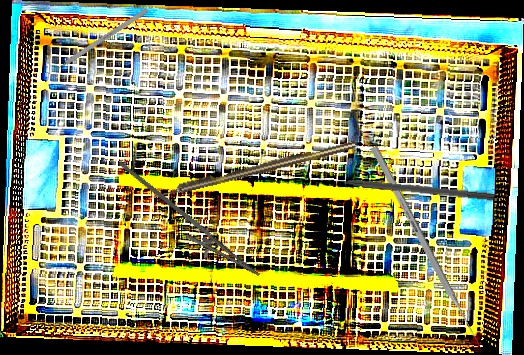Hook Surgical: (147, 139, 357, 202), (46, 7, 149, 78)
Needle Holder: (100, 160, 272, 289)
Pusher: (369, 145, 483, 347), (315, 172, 497, 202)
